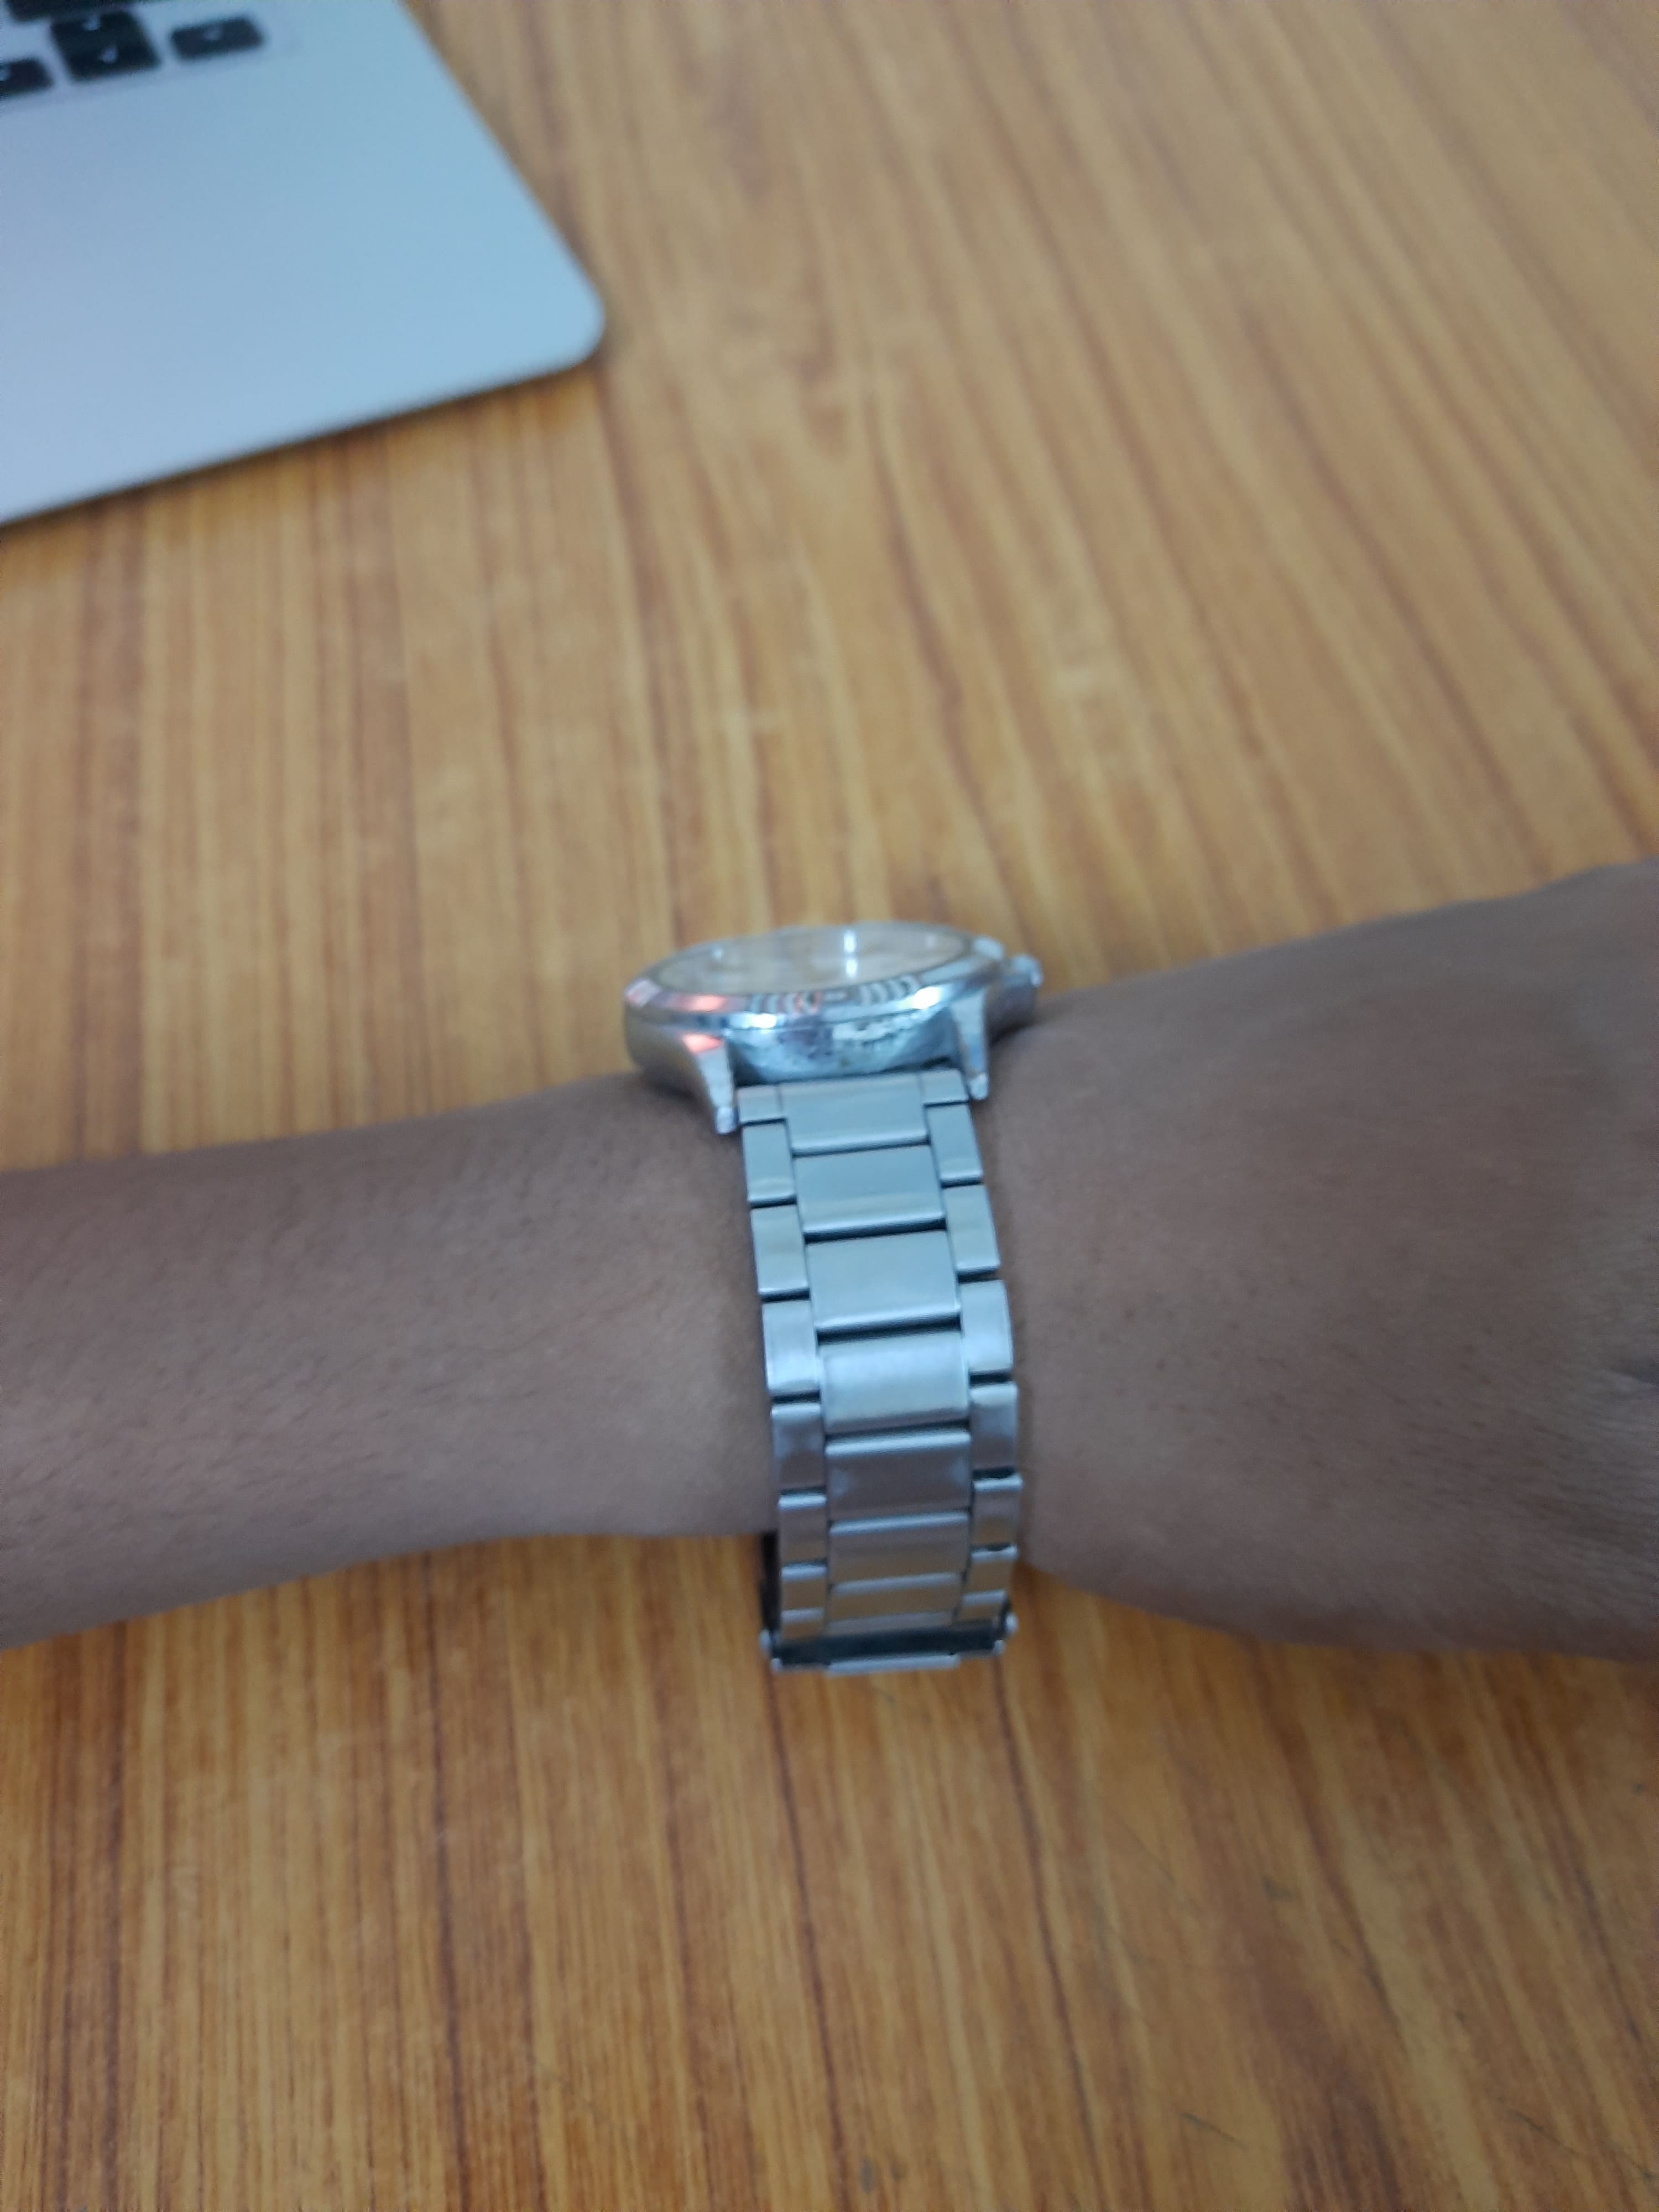Vikash's Watch: (624, 904, 1077, 1731)
